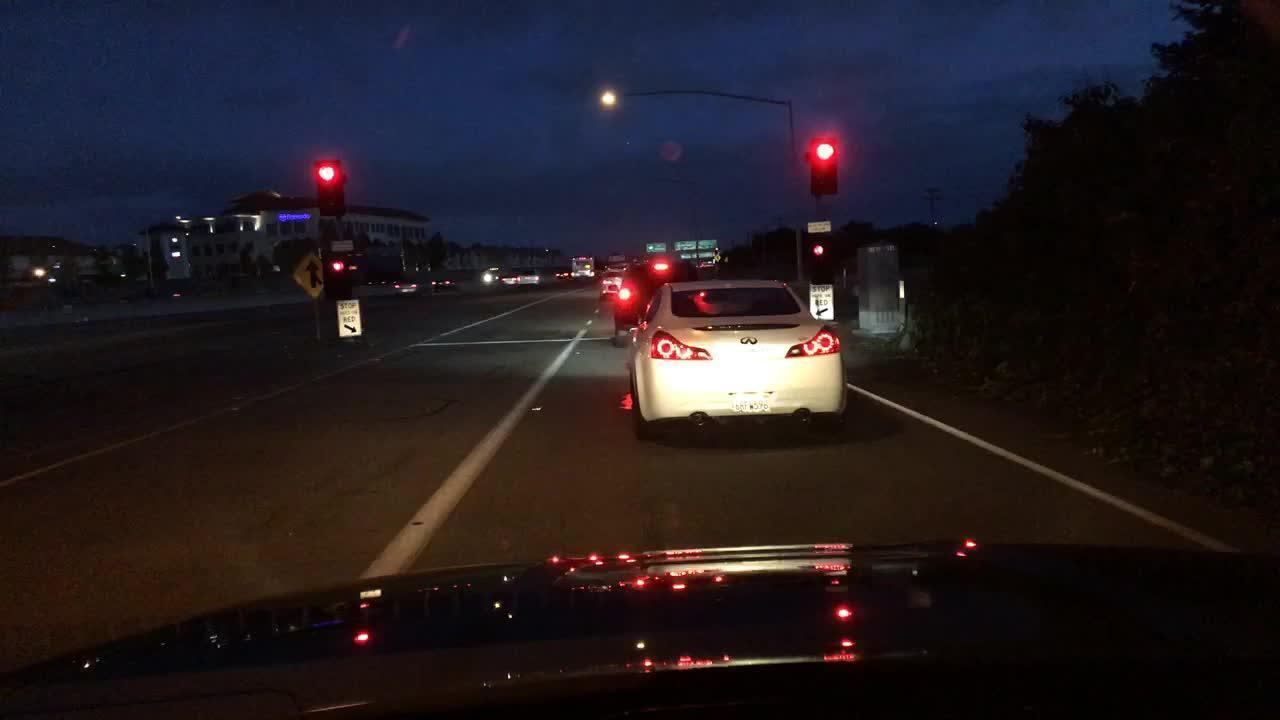Infiniti: (732, 330, 766, 350)
